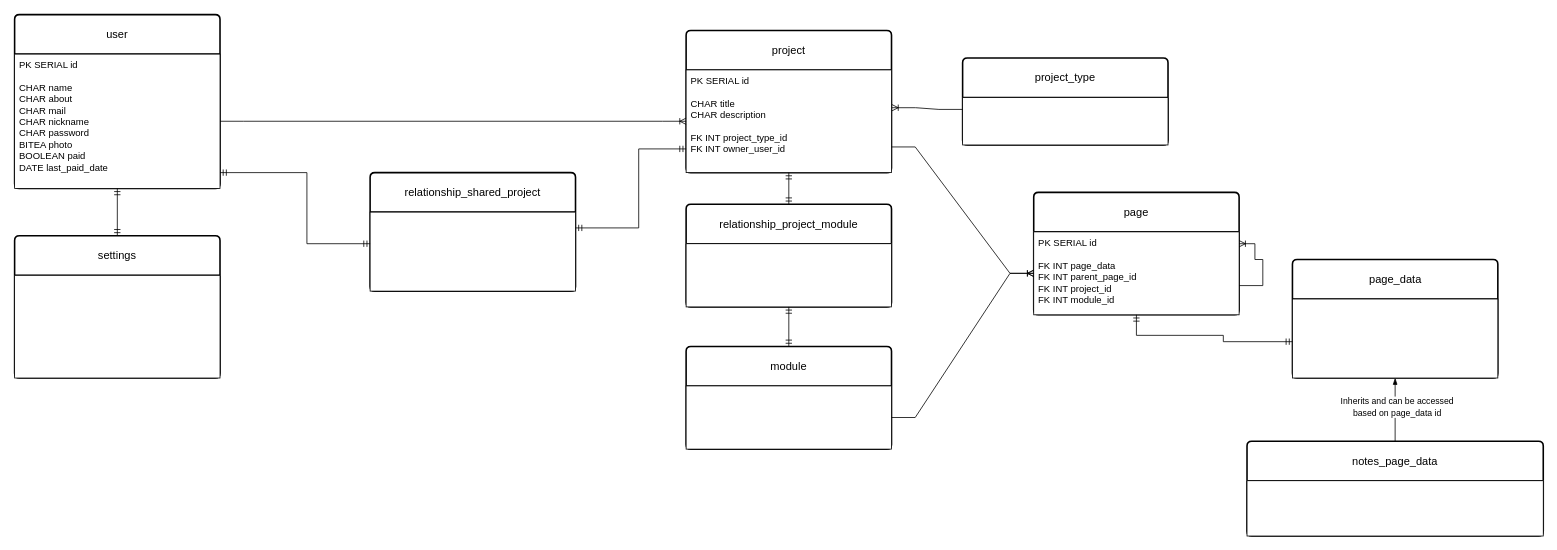
Image size: 1557x550. Some labels were removed from this diagram. The shapes that lost their labels are listed below. From the top down, each one's centre as x and y in pixels, then its label:
At (1065,121): "PK SERIAL id CHAR name".
At (472,251): "PK SERIAL id INT permissions FK user_shared_id FK project_id".
At (788,275): "PK SERIAL id FK module_id FK project_id".
At (117,326): "PK SERIAL id CHAR language CHAR country CHAR theme FK INT user_id".
At (1395,338): "PK SERIAL id CHAR name CHAR emoji CHAR description".
At (788,417): "PK SERIAL id CHAR name CHAR description".
At (1394,508): "PK INTEGER REFERENCES page_data (id) CHAR content".
